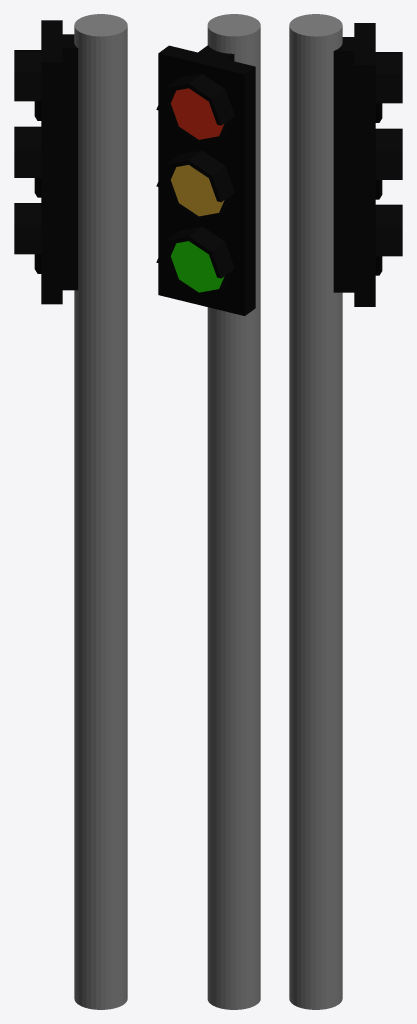
Rendered from redlight_oneway.fbx.
3 views of the same model, side by side, from view 1: azimuth 90°, elevation 25°; view 2: azimuth 150°, elevation 25°; view 3: azimuth 270°, elevation 25° (orthographic).
Parts seen in each view (by area): view 1: single traffic light; view 2: single traffic light; view 3: single traffic light.
Boxes of the visible parts, <box> form: single traffic light: <box>14,14,127,1009</box>; single traffic light: <box>156,14,260,1009</box>; single traffic light: <box>289,14,402,1009</box>.
Size of the model in its own units: 96.37 by 1037 by 110.
